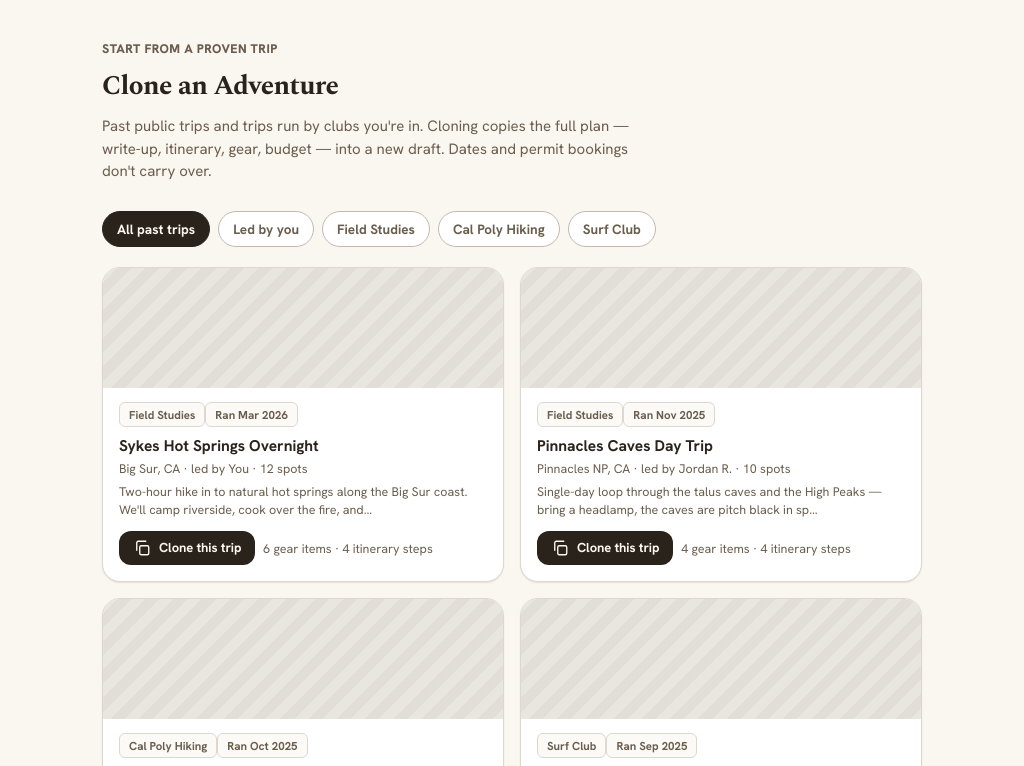
Scenario: Clone an Adventure filter › Led by you keeps only your trips
The width and height of the screenshot is (1024, 766).
Click the button "Led by you" at (266, 228), box 218,210 -> 314,246
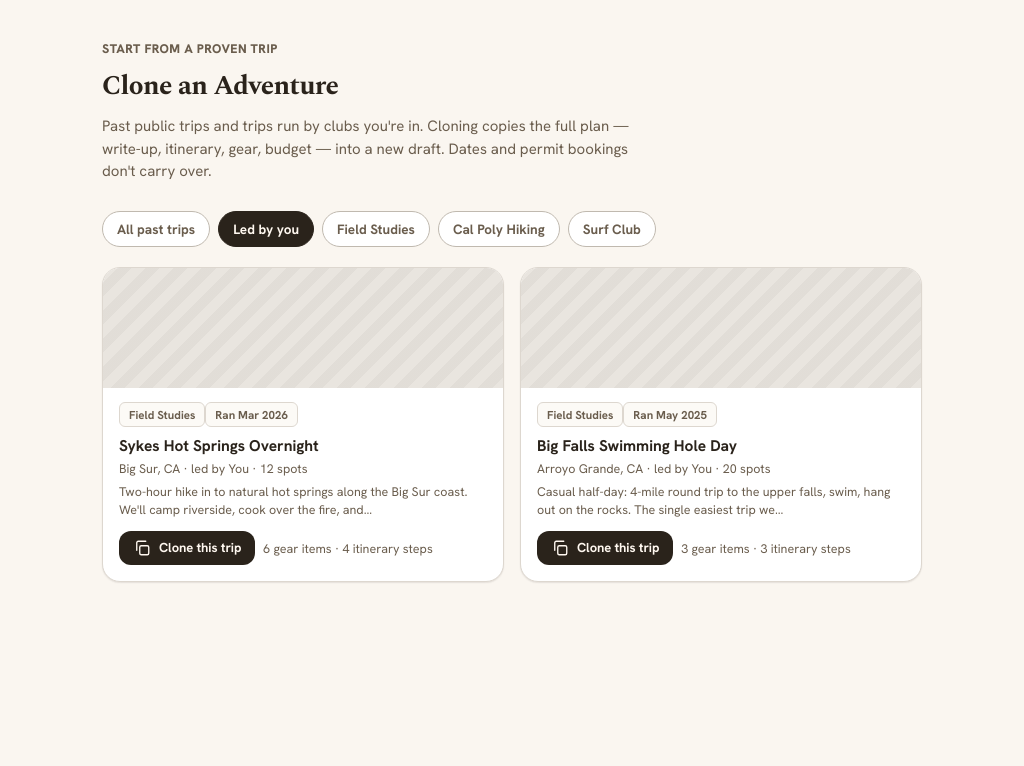
Check: the text "Sykes Hot Springs Overnight" is shown, box 119,434 -> 319,456
Check: the text "Pinnacles Caves Day Trip" is gone
